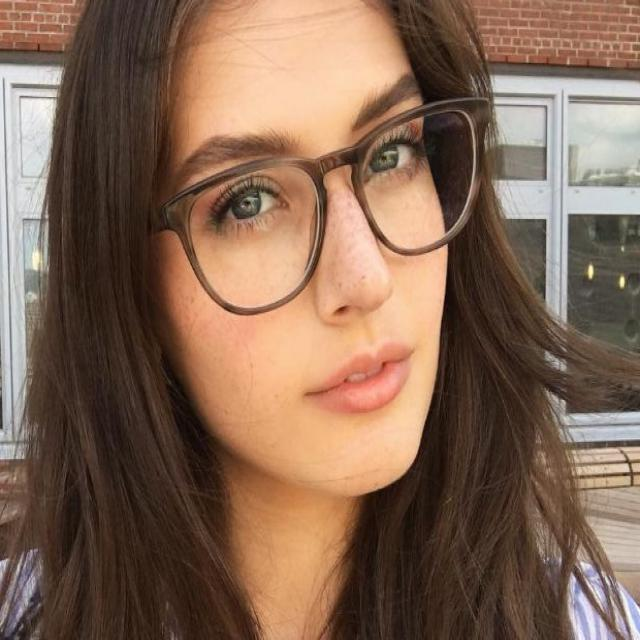Glasses: (146, 93, 498, 319)
